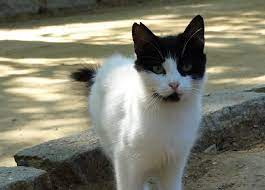cat: (69, 11, 217, 188)
